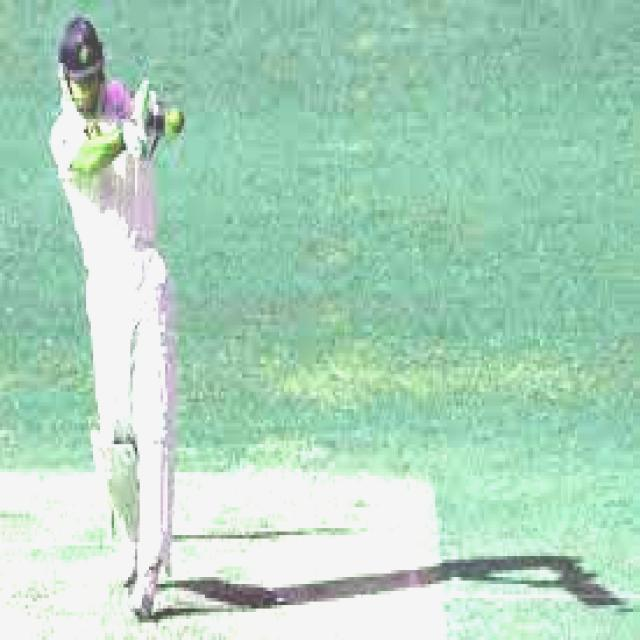toe: (140, 102, 170, 130)
